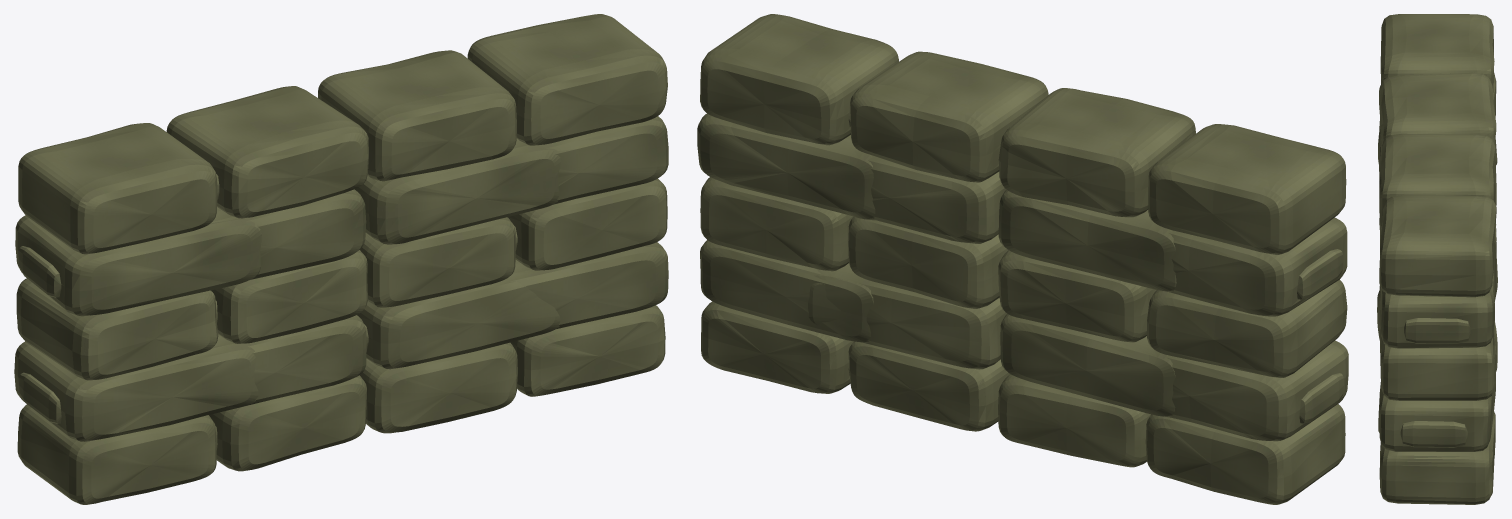
File: parede_sacos.glb
The picture shows the model from 3 angles, left to right: view 1: azimuth 30°, elevation 25°; view 2: azimuth 150°, elevation 25°; view 3: azimuth 270°, elevation 25°; orthographic projection. The views are drawn at different scales.
Visible parts, largest first — view 1: parede_sacos_lona; view 2: parede_sacos_lona; view 3: parede_sacos_lona.
Part boxes in pixels (bbox=[...]): parede_sacos_lona: bbox=[14, 14, 668, 504]; parede_sacos_lona: bbox=[697, 14, 1348, 504]; parede_sacos_lona: bbox=[1377, 14, 1497, 504].
Size of the model in its own units: 2.04 by 1.03 by 0.4223.
Materials: 1 (1 with a texture image).
